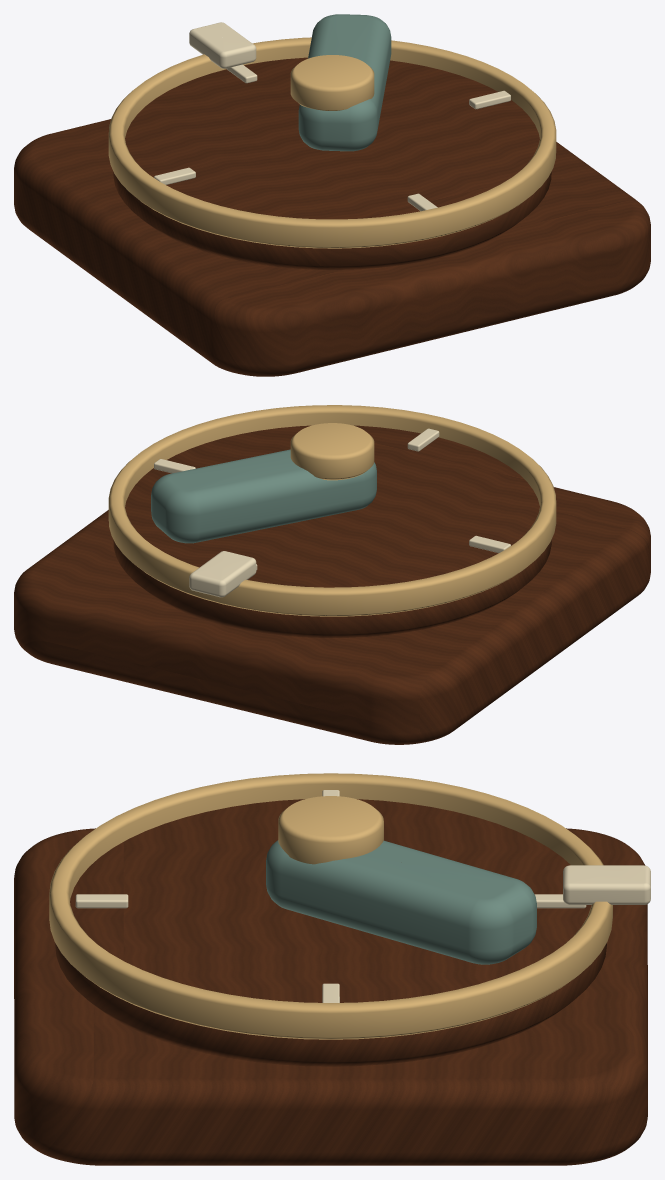
Rendered from cargo_art_05_alignment_dial.glb.
The picture shows the model from 3 angles, top to bottom: view 1: azimuth 30°, elevation 25°; view 2: azimuth 150°, elevation 25°; view 3: azimuth 270°, elevation 25°; orthographic projection. The views are drawn at different scales.
Parts seen in each view (by area): view 1: wood_base, wood_dial, bezel, teal_handle, pivot_cap, fixed_notch; view 2: wood_base, wood_dial, bezel, teal_handle, pivot_cap, fixed_notch; view 3: wood_base, wood_dial, bezel, teal_handle, pivot_cap, fixed_notch, index_0.
Part boxes in pixels (x1,y1,x2,y2): wood_base: (14,119,650,376); wood_dial: (113,57,551,269); bezel: (108,37,556,248); teal_handle: (298,14,391,151); pivot_cap: (290,55,374,110); fixed_notch: (189,22,256,68); wood_base: (14,487,650,744); wood_dial: (113,425,551,637); bezel: (108,405,556,616); teal_handle: (151,449,376,543); pivot_cap: (290,423,374,480); fixed_notch: (189,551,256,597); wood_base: (14,828,647,1165); wood_dial: (55,799,606,1066); bezel: (49,773,612,1039); teal_handle: (266,840,536,964); pivot_cap: (278,796,383,864); fixed_notch: (563,865,650,904); index_0: (75,894,128,908).
Size of the model in its own units: 0.108 by 0.042 by 0.1085.
Materials: 4 (1 with a texture image).
